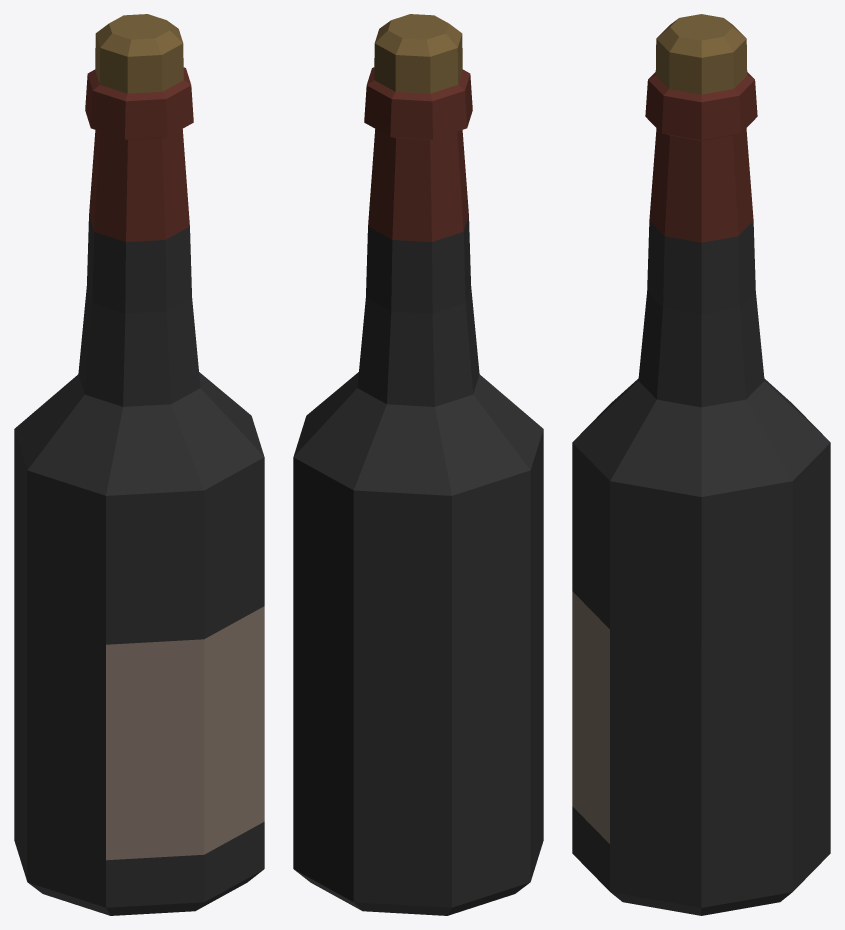
File: Bottle.obj
The picture shows the model from 3 angles, left to right: view 1: azimuth 30°, elevation 25°; view 2: azimuth 150°, elevation 25°; view 3: azimuth 270°, elevation 25°; orthographic projection.
Visible parts, largest first — view 1: mesh_0, mesh_3, mesh_1, mesh_2; view 2: mesh_0, mesh_1, mesh_2; view 3: mesh_0, mesh_1, mesh_3, mesh_2.
Boxes of the visible parts, <box> form: mesh_0: <box>14,215,264,915</box>; mesh_3: <box>106,606,264,860</box>; mesh_1: <box>85,67,193,241</box>; mesh_2: <box>95,14,183,93</box>; mesh_0: <box>293,215,543,915</box>; mesh_1: <box>364,67,472,241</box>; mesh_2: <box>374,14,462,93</box>; mesh_0: <box>572,221,830,915</box>; mesh_1: <box>645,72,757,242</box>; mesh_3: <box>572,591,609,843</box>; mesh_2: <box>655,14,747,94</box>.
Size of the model in its own units: 0.4517 by 1.62 by 0.4517.
